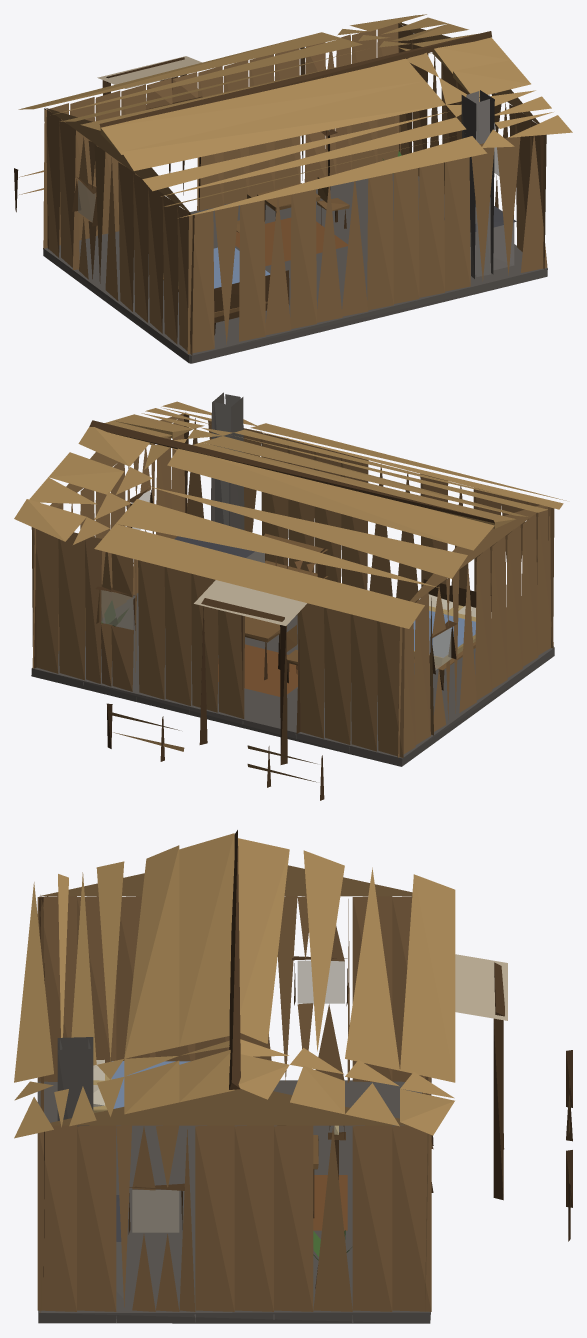
File: SM_CASA_05_CASA_VECINO_BAJA.glb
3 renders of one model, top to bottom at view 1: azimuth 30°, elevation 25°; view 2: azimuth 150°, elevation 25°; view 3: azimuth 270°, elevation 25°, orthographic. The views are drawn at different scales.
Parts seen in each view (by area): view 1: SM_Pared_Norte, SM_Techo_Izq, SM_Pared_Oeste, SM_Pared_Sur, SM_Cimiento, SM_Techo_Der, SM_Pared_Este, SM_Cocina, SM_Cumbrera, SM_Cama, SM_Portico, SM_Suelo (+1 smaller); view 2: SM_Pared_Sur, SM_Techo_Der, SM_Pared_Oeste, SM_Techo_Izq, SM_Pared_Norte, SM_Cimiento, SM_Pared_Este, SM_Portico, SM_Cocina, SM_Cumbrera, SM_Cama, SM_Suelo (+2 smaller); view 3: SM_Pared_Este, SM_Techo_Izq, SM_Techo_Der, SM_Pared_Oeste, SM_Cimiento, SM_Portico, SM_Cocina, SM_Cumbrera, SM_Valla_Patio, SM_Cama, SM_Suelo.
Part boxes in pixels (x1,y1,x2,y2): SM_Pared_Norte: (187, 135, 547, 354); SM_Techo_Izq: (100, 37, 572, 218); SM_Pared_Oeste: (44, 108, 194, 355); SM_Pared_Sur: (43, 22, 401, 249); SM_Cimiento: (43, 174, 547, 363); SM_Techo_Der: (18, 14, 478, 130); SM_Pared_Este: (398, 22, 546, 269); SM_Cocina: (382, 90, 516, 278); SM_Cumbrera: (99, 31, 491, 127); SM_Cama: (163, 247, 289, 335); SM_Portico: (97, 56, 202, 195); SM_Suelo: (235, 217, 348, 266); SM_Pared_Sur: (31, 527, 404, 757); SM_Techo_Der: (14, 427, 494, 628); SM_Pared_Oeste: (398, 505, 553, 757); SM_Techo_Izq: (104, 401, 566, 528); SM_Pared_Norte: (183, 414, 554, 648); SM_Cimiento: (31, 593, 554, 766); SM_Pared_Este: (32, 412, 187, 668); SM_Portico: (194, 580, 306, 764); SM_Cocina: (101, 392, 327, 648); SM_Cumbrera: (89, 420, 494, 523); SM_Cama: (413, 579, 491, 690); SM_Suelo: (218, 644, 297, 696); SM_Pared_Este: (37, 1089, 431, 1311); SM_Techo_Izq: (14, 833, 234, 1138); SM_Techo_Der: (238, 838, 455, 1135); SM_Pared_Oeste: (37, 865, 431, 1083); SM_Cimiento: (37, 1080, 430, 1323); SM_Portico: (455, 954, 507, 1200); SM_Cocina: (57, 1037, 351, 1298); SM_Cumbrera: (229, 830, 240, 1089); SM_Valla_Patio: (566, 1050, 572, 1241); SM_Cama: (93, 1059, 190, 1113); SM_Suelo: (313, 1175, 347, 1230).
Bounding box in the file's own units: 7.6 × 3.52 × 7.1.
